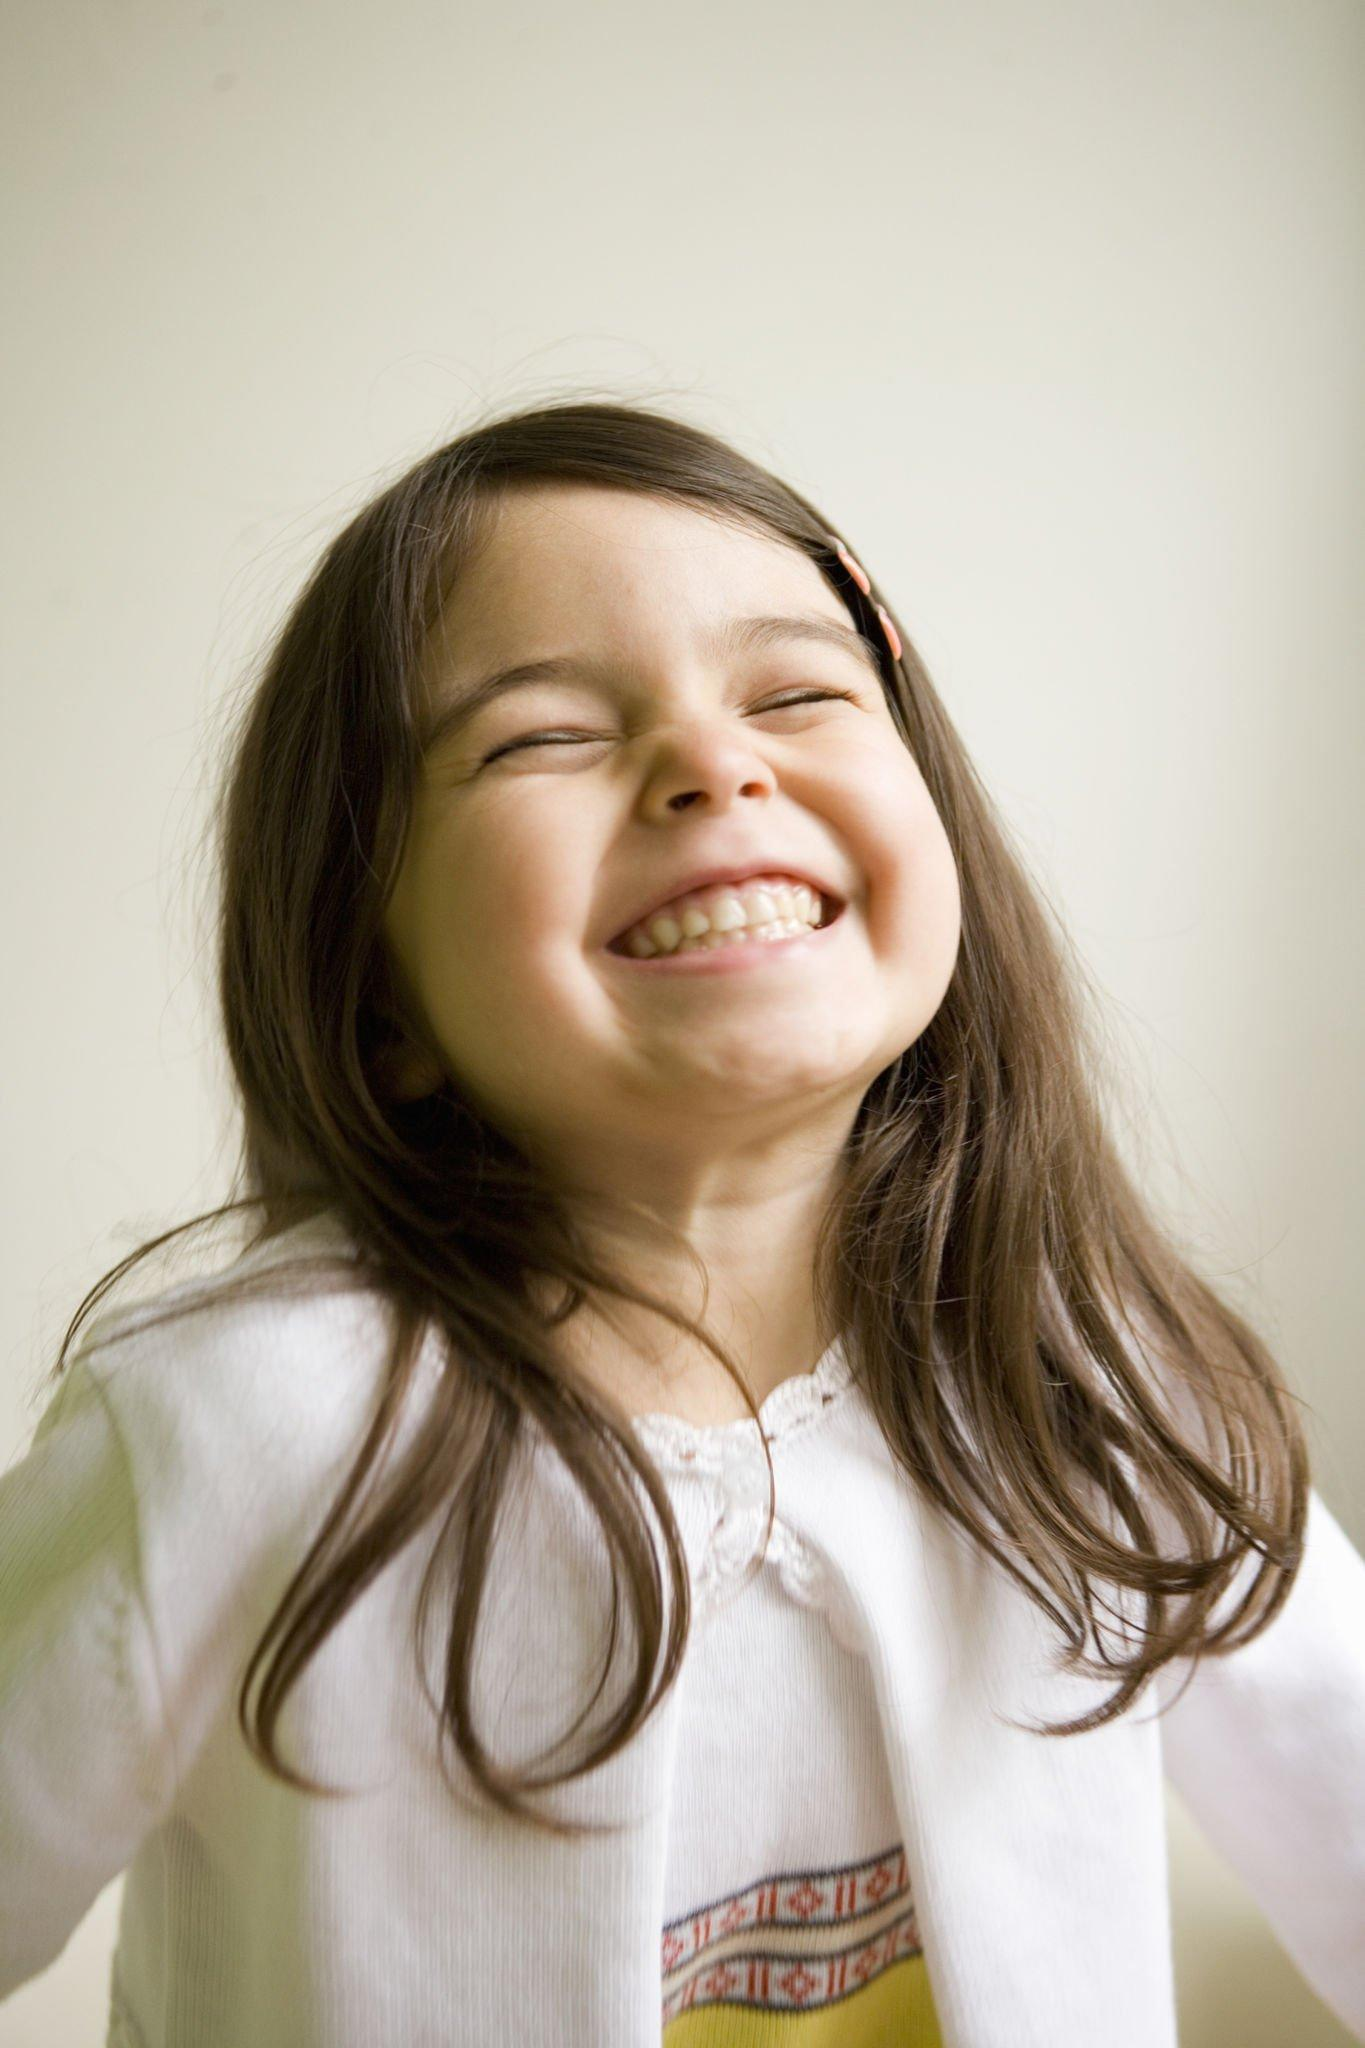Healthy: (402, 487, 955, 1166)
